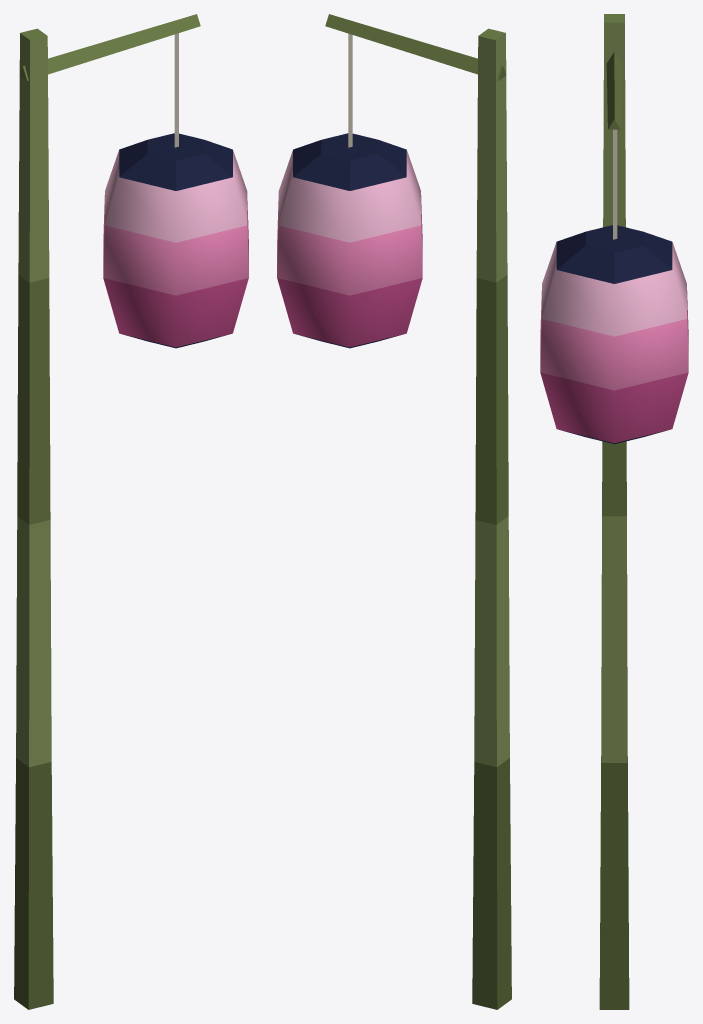
The model's file is fake-lantern.glb.
The picture shows the model from 3 angles, left to right: view 1: azimuth 30°, elevation 25°; view 2: azimuth 150°, elevation 25°; view 3: azimuth 270°, elevation 25°; orthographic projection.
Parts seen in each view (by area): view 1: fake-lantern; view 2: fake-lantern; view 3: fake-lantern.
Part boxes in pixels (<box>): fake-lantern: <box>14,14,248,1009</box>; fake-lantern: <box>277,14,511,1009</box>; fake-lantern: <box>540,14,688,1009</box>.
Bounding box in the file's own units: 0.6404 × 2.6 × 0.3551.
